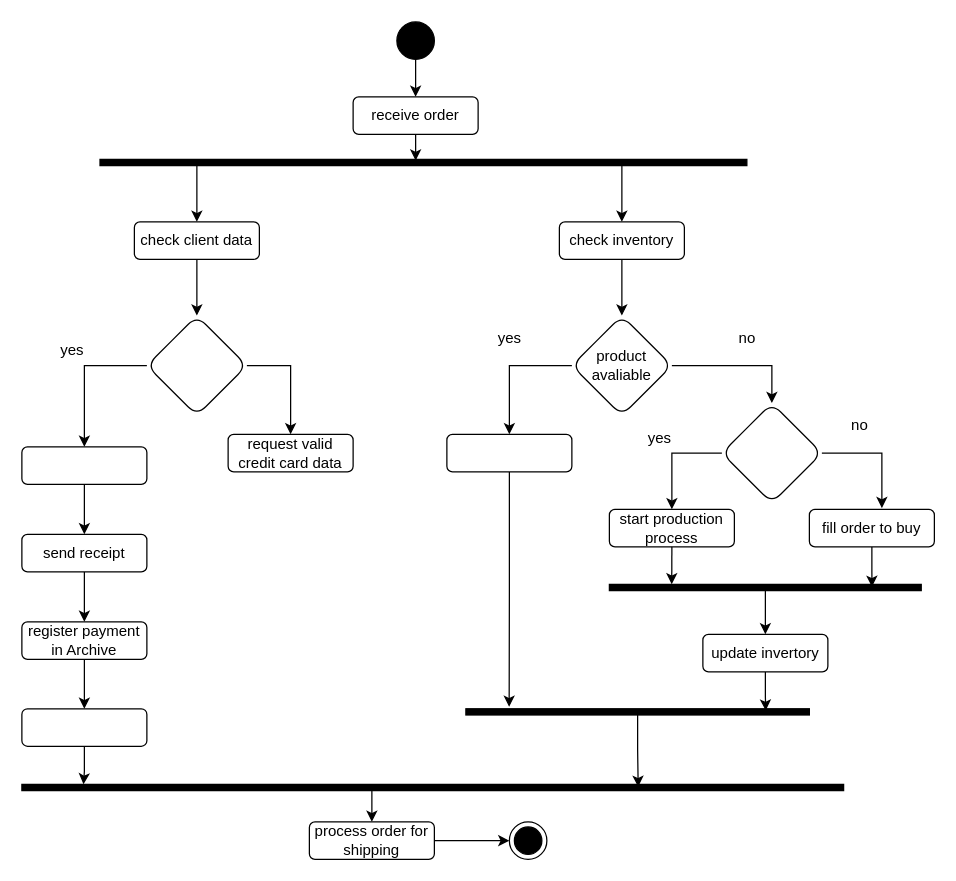
Some shapes in this 956 by 881 pixel diagram are drawn without their labels. The shapes that lost their labels are listed below. From the top down, each one's centre as x and y in pixels, then its label:
At point 196,365: "credit card data valid?".
At point 84,465: "wait for payment".
At point 509,452: "reserve product".
At point 771,452: "internally produced".
At point 84,727: "notify client of payment".
